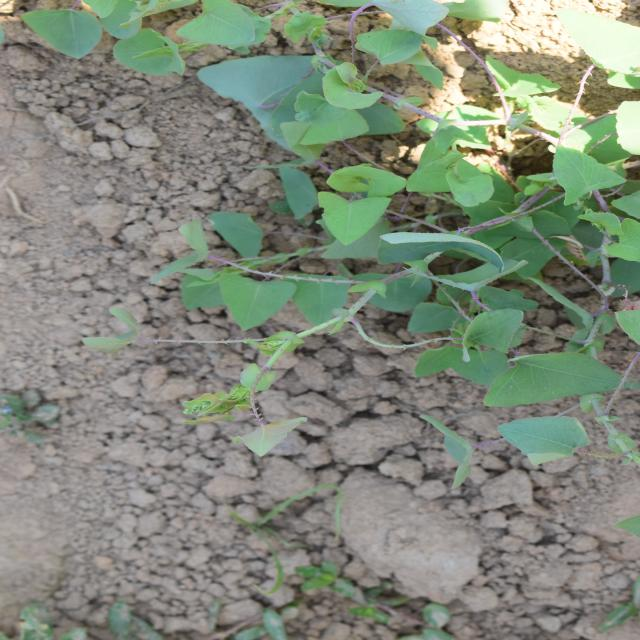Asiatic_Smartweed: (500, 228, 638, 476), (368, 300, 508, 513), (218, 419, 355, 632), (303, 132, 416, 384)
